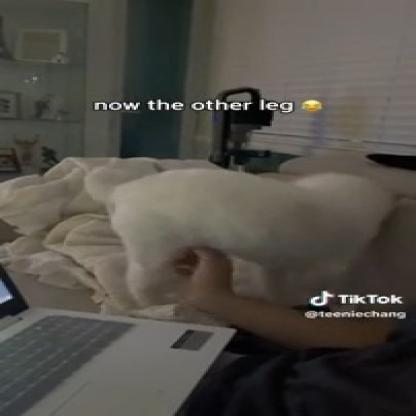dog: (97, 157, 393, 301)
